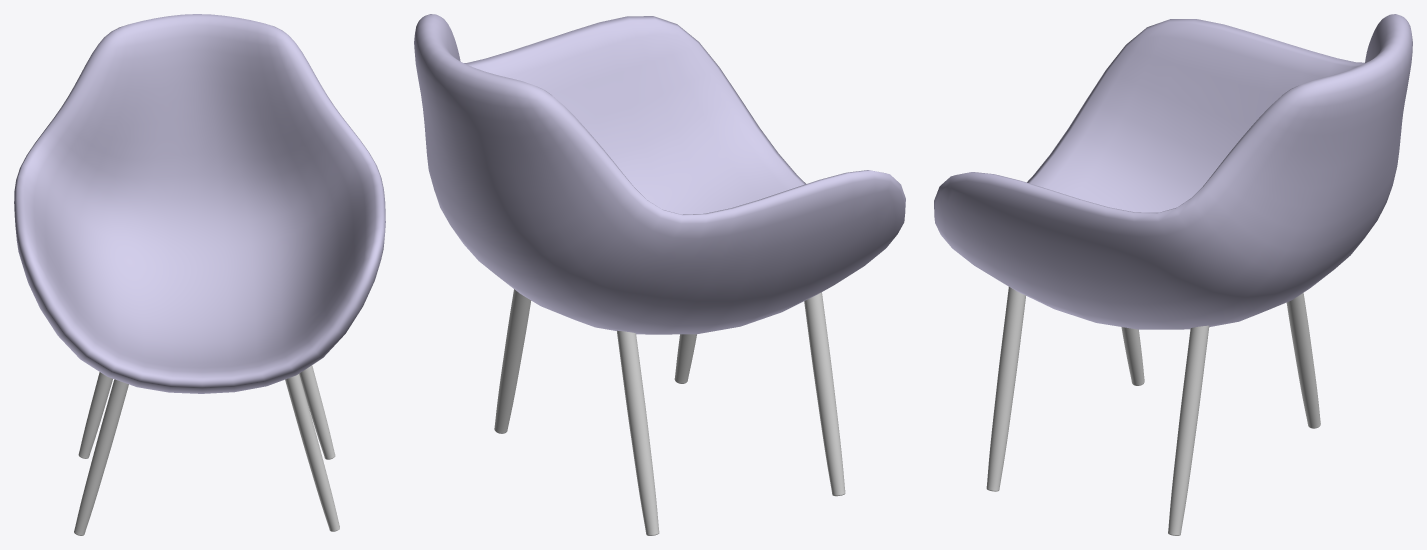
File: chair.fbx
3 views of the same model, side by side, from view 1: azimuth 30°, elevation 25°; view 2: azimuth 150°, elevation 25°; view 3: azimuth 270°, elevation 25° (orthographic). The views are drawn at different scales.
Parts seen in each view (by area): view 1: chair; view 2: chair; view 3: chair.
Boxes of the visible parts, x1,y1,x2,y2 form: chair: (14, 14, 385, 535); chair: (414, 14, 905, 535); chair: (934, 14, 1412, 535).
Size of the model in its own units: 1074 by 1117 by 1065.
